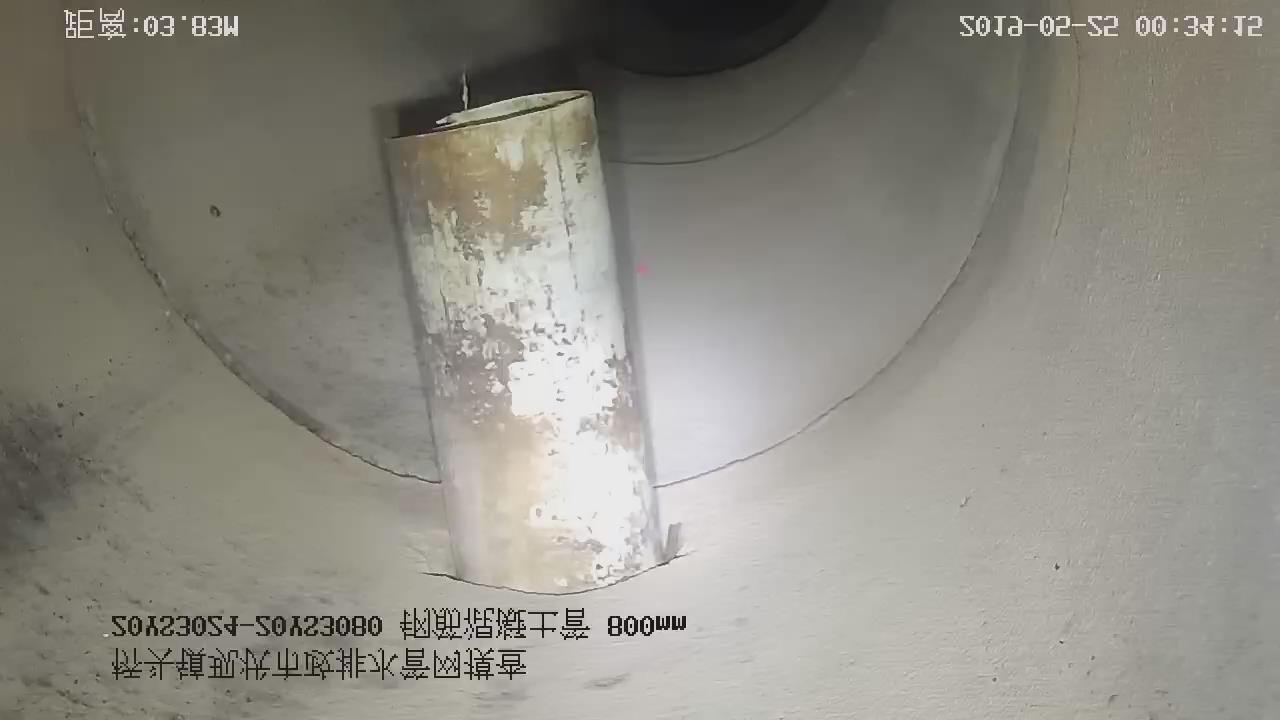CKTJ: (105, 184, 437, 487)
ZGAJ: (382, 91, 676, 592), (383, 91, 675, 592)
